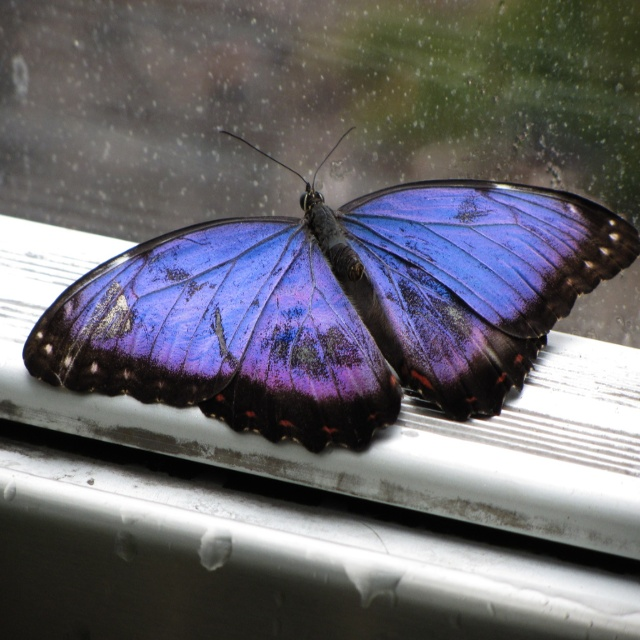Butterfly: (9, 112, 631, 446)
